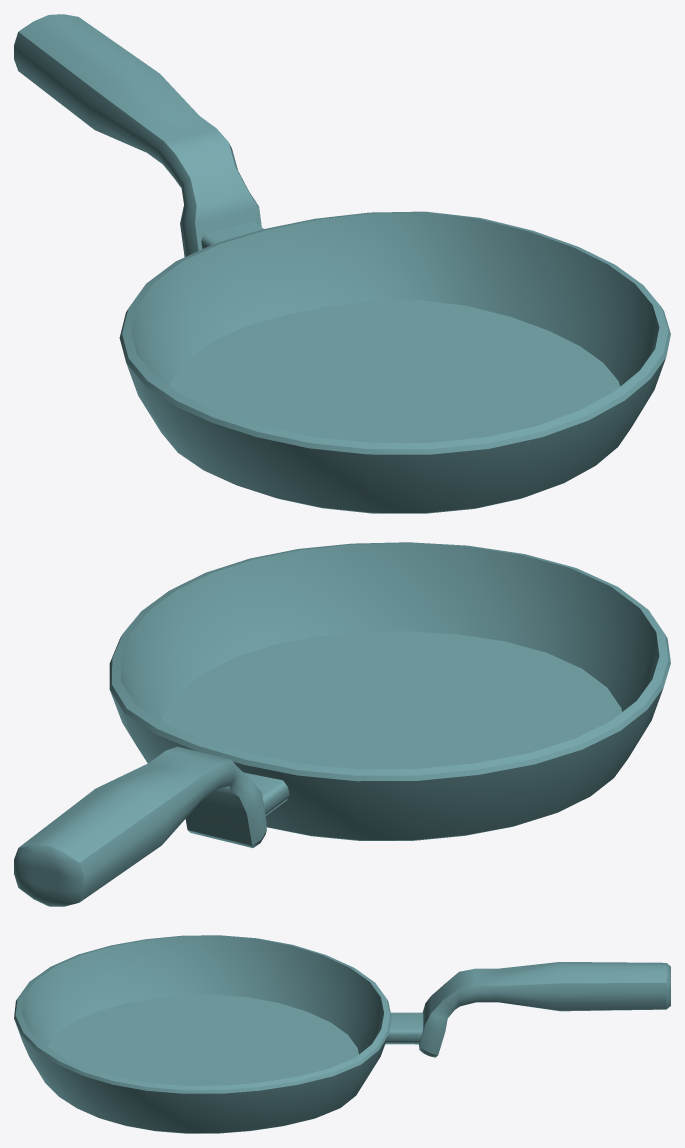
The model's file is SM_FRYING_PAN_HUMAN_G.fbx.
The picture shows the model from 3 angles, top to bottom: view 1: azimuth 30°, elevation 25°; view 2: azimuth 150°, elevation 25°; view 3: azimuth 270°, elevation 25°; orthographic projection. The views are drawn at different scales.
Parts seen in each view (by area): view 1: SM_FRYING_PAN_HUMAN_G; view 2: SM_FRYING_PAN_HUMAN_G; view 3: SM_FRYING_PAN_HUMAN_G.
Part boxes in pixels (left/top/right/bottom): SM_FRYING_PAN_HUMAN_G: left=14, top=14, right=670, bottom=513; SM_FRYING_PAN_HUMAN_G: left=14, top=542, right=670, bottom=906; SM_FRYING_PAN_HUMAN_G: left=14, top=935, right=670, bottom=1133.
Bounding box in the file's own units: 41.83 × 12.72 × 74.29.
